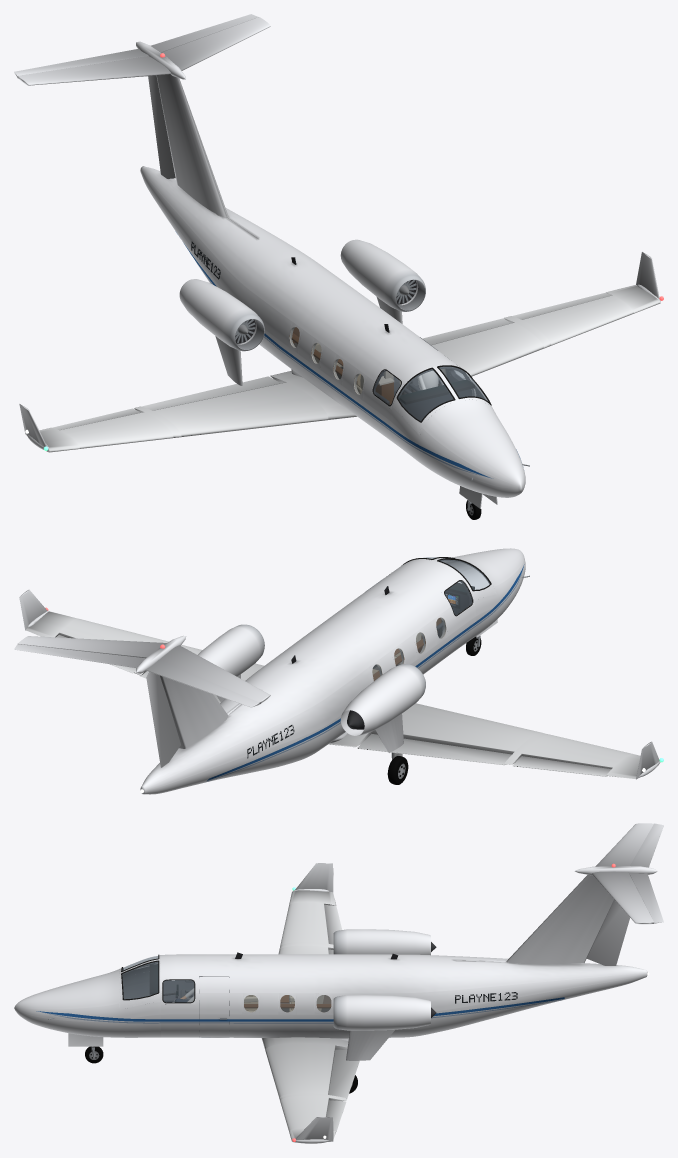
File: hondajet.glb
3 views of the same model, one above another, from view 1: azimuth 30°, elevation 25°; view 2: azimuth 150°, elevation 25°; view 3: azimuth 270°, elevation 25° (orthographic). The views are drawn at different scales.
Visible parts, largest first — view 1: body, canopy, rudder, flapR, elevR, elevL; view 2: body, flapR, canopy, rudder, elevR, elevL, ailR, wheelR; view 3: body, canopy, rudder, flapL, elevL, elevR.
Boxes of the visible parts, x1,y1,x2,y2 form: body: (17, 17, 663, 497); canopy: (290, 327, 487, 420); rudder: (148, 75, 175, 178); flapR: (142, 376, 280, 410); elevR: (14, 48, 148, 77); elevL: (150, 14, 257, 52); body: (17, 548, 663, 794); flapR: (357, 734, 511, 765); canopy: (372, 557, 489, 680); rudder: (146, 672, 180, 767); elevR: (146, 660, 259, 707); elevL: (14, 644, 145, 668); ailR: (512, 756, 610, 776); wheelR: (387, 756, 408, 784); body: (14, 823, 657, 1143); canopy: (122, 956, 330, 1011); rudder: (587, 900, 629, 965); flapL: (328, 1049, 359, 1098); elevL: (629, 873, 663, 923); elevR: (630, 823, 663, 867).
Bounding box in the file's own units: 12.39 × 4.52 × 13.37.
